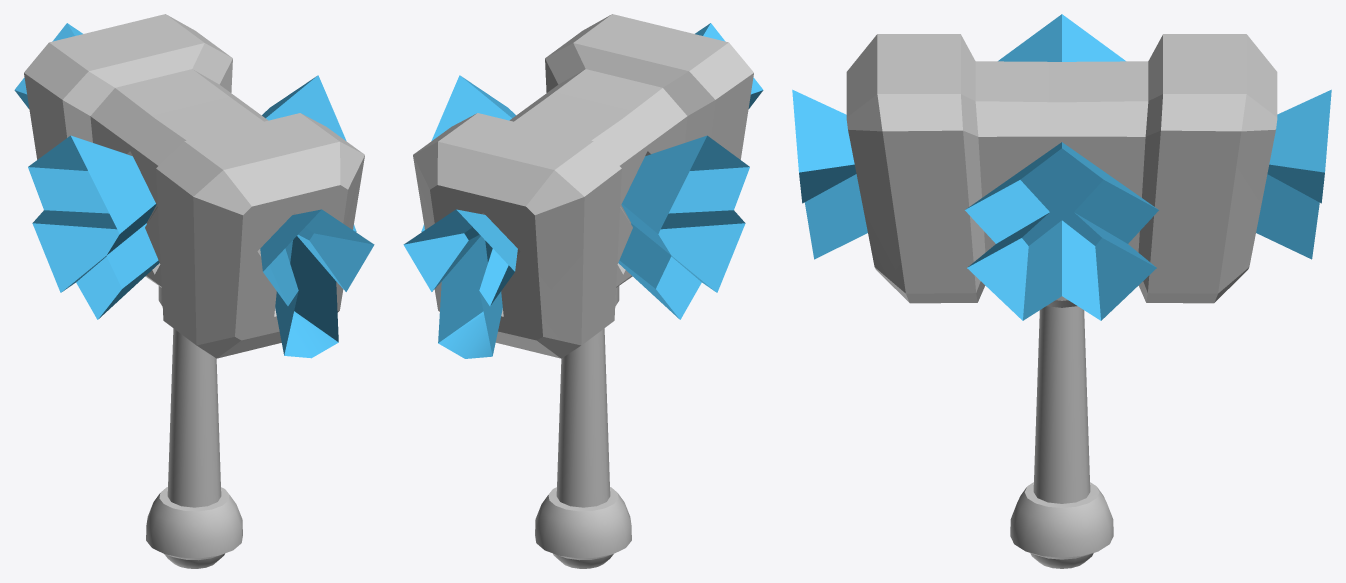
The model's file is Mjollnir.fbx.
3 renders of one model, left to right at view 1: azimuth 30°, elevation 25°; view 2: azimuth 150°, elevation 25°; view 3: azimuth 270°, elevation 25°, orthographic. The views are drawn at different scales.
Visible parts, largest first — view 1: Mjollnir_mesh; view 2: Mjollnir_mesh; view 3: Mjollnir_mesh.
Boxes of the visible parts, x1,y1,x2,y2 form: Mjollnir_mesh: [14, 14, 374, 568]; Mjollnir_mesh: [403, 14, 763, 568]; Mjollnir_mesh: [792, 14, 1331, 568].
Size of the model in its own units: 35.77 by 65.31 by 63.71.
